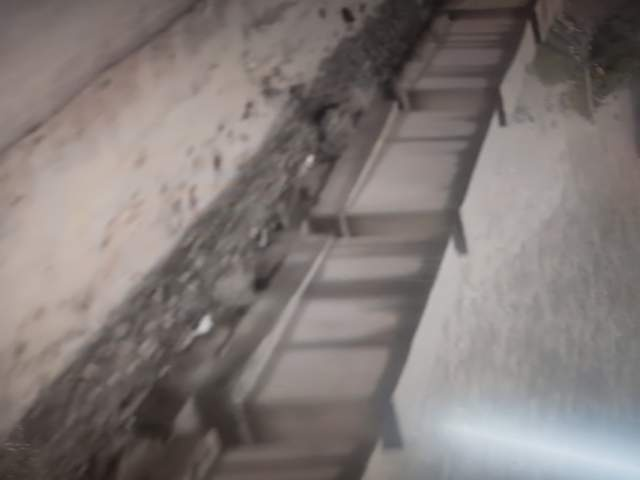pothole: (239, 311, 339, 391)
